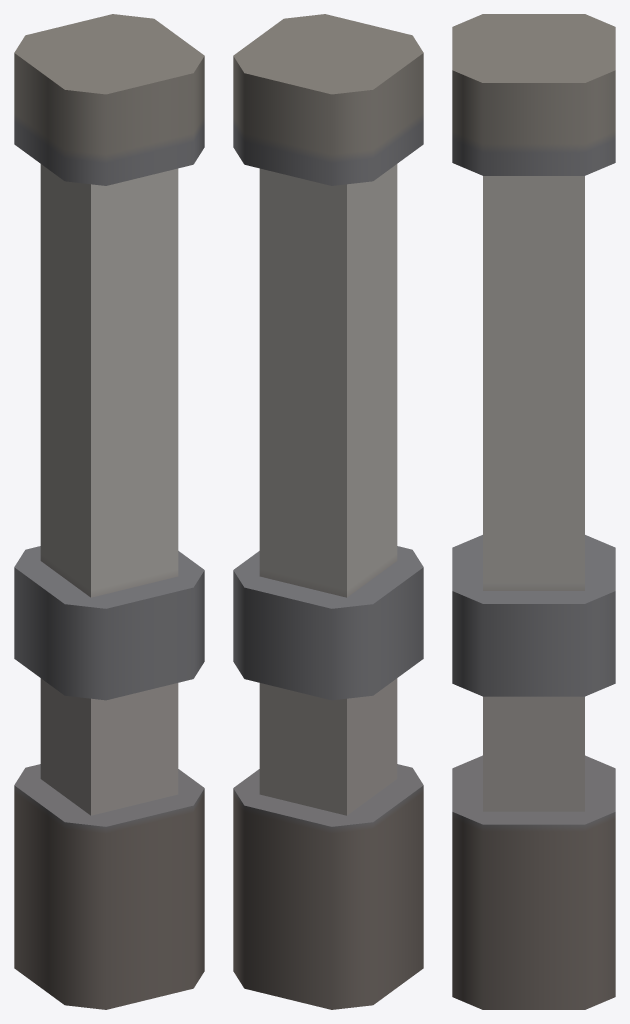
The model's file is pillar-stone__go_ruins.glb.
The picture shows the model from 3 angles, left to right: view 1: azimuth 30°, elevation 25°; view 2: azimuth 150°, elevation 25°; view 3: azimuth 270°, elevation 25°; orthographic projection.
Visible parts, largest first — view 1: pillar-stone; view 2: pillar-stone; view 3: pillar-stone.
Boxes of the visible parts, x1,y1,x2,y2 form: pillar-stone: (14,14,204,1009); pillar-stone: (233,14,423,1009); pillar-stone: (452,14,615,1009).
Size of the model in its own units: 0.16 by 1 by 0.16.
Materials: 1 (1 with a texture image).
